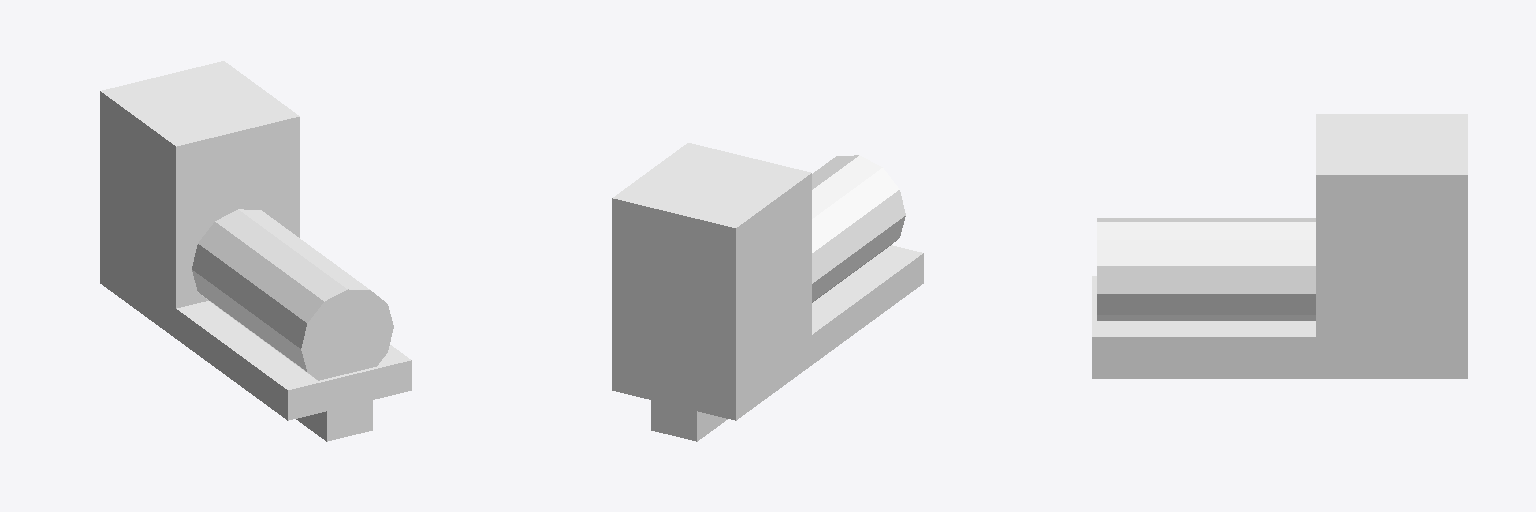
The model's file is steam_medium.obj.
3 views of the same model, side by side, from view 1: azimuth 30°, elevation 25°; view 2: azimuth 150°, elevation 25°; view 3: azimuth 270°, elevation 25° (orthographic).
Visible parts, largest first — view 1: Steam_small_Cube_Cube.003; view 2: Steam_small_Cube_Cube.003; view 3: Steam_small_Cube_Cube.003.
Boxes of the visible parts, <box> form: Steam_small_Cube_Cube.003: <box>100,61,411,441</box>; Steam_small_Cube_Cube.003: <box>612,143,923,441</box>; Steam_small_Cube_Cube.003: <box>1092,114,1467,378</box>.
Bounding box in the file's own units: 0.8 × 1.38 × 2.1.